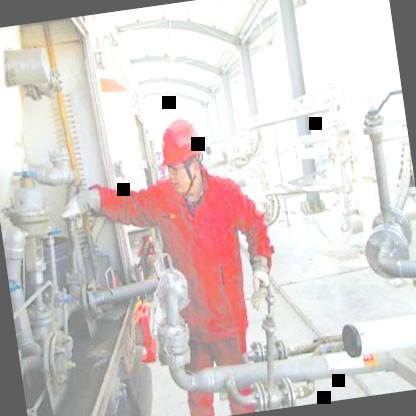helmet: (149, 108, 217, 210)
